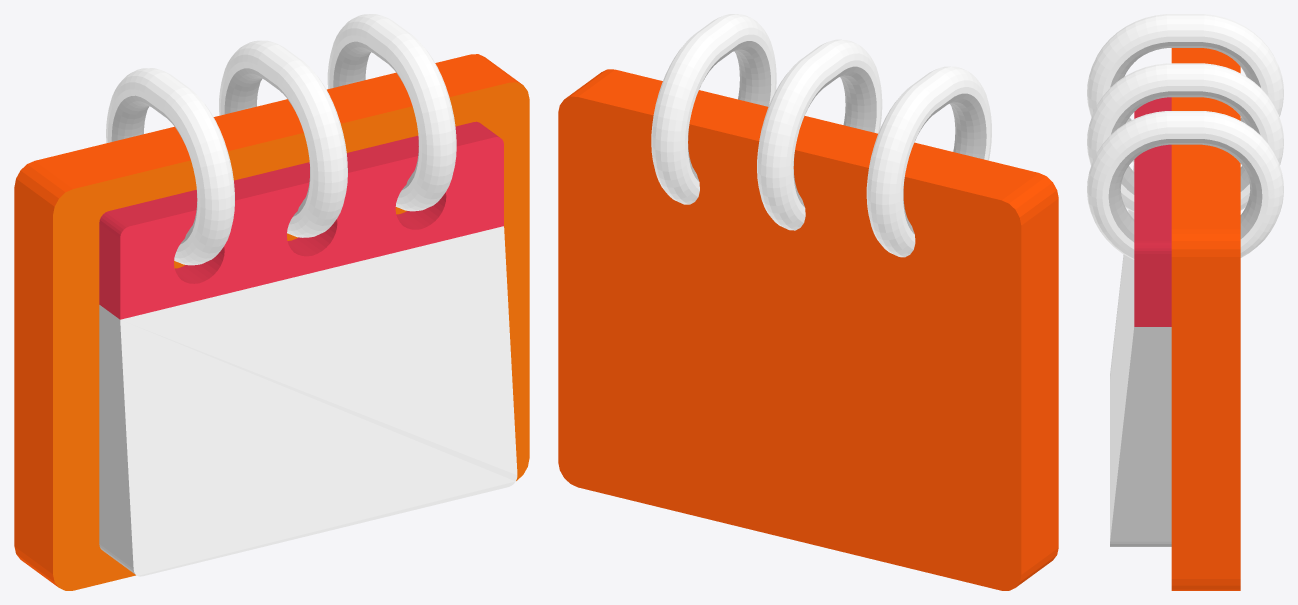
The model's file is calender.gltf.
The picture shows the model from 3 angles, left to right: view 1: azimuth 30°, elevation 25°; view 2: azimuth 150°, elevation 25°; view 3: azimuth 270°, elevation 25°; orthographic projection. The views are drawn at different scales.
Parts seen in each view (by area): view 1: Cube; view 2: Cube; view 3: Cube.
Boxes of the visible parts, left/top/right/bottom form: Cube: left=14, top=14, right=529, bottom=590; Cube: left=558, top=14, right=1058, bottom=590; Cube: left=1087, top=14, right=1283, bottom=590.
Size of the model in its own units: 2.48 by 2.38 by 0.9919.
1 material, 1 textured.
